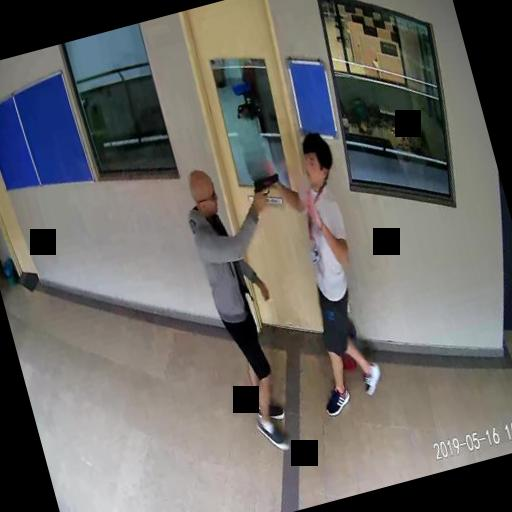Handgun: (246, 168, 288, 213)
